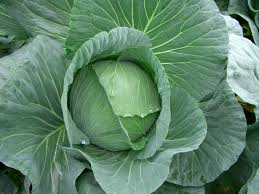cabbage: (66, 54, 169, 154)
